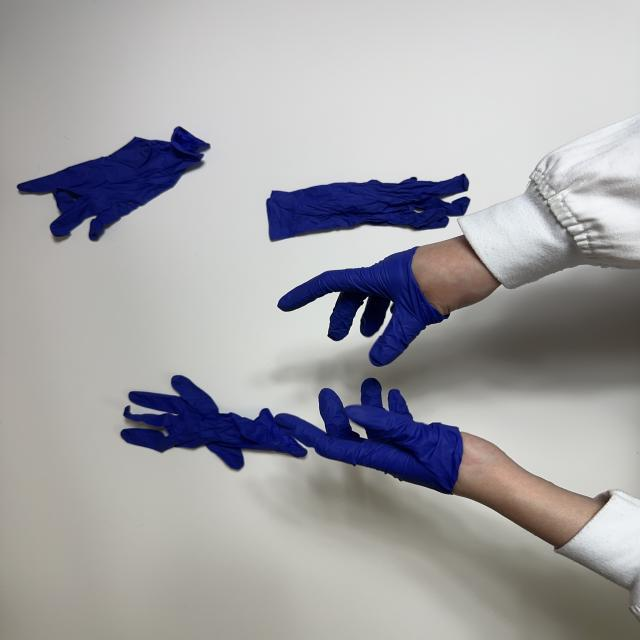glove_not_fitted: (273, 376, 603, 548), (274, 234, 505, 368)
